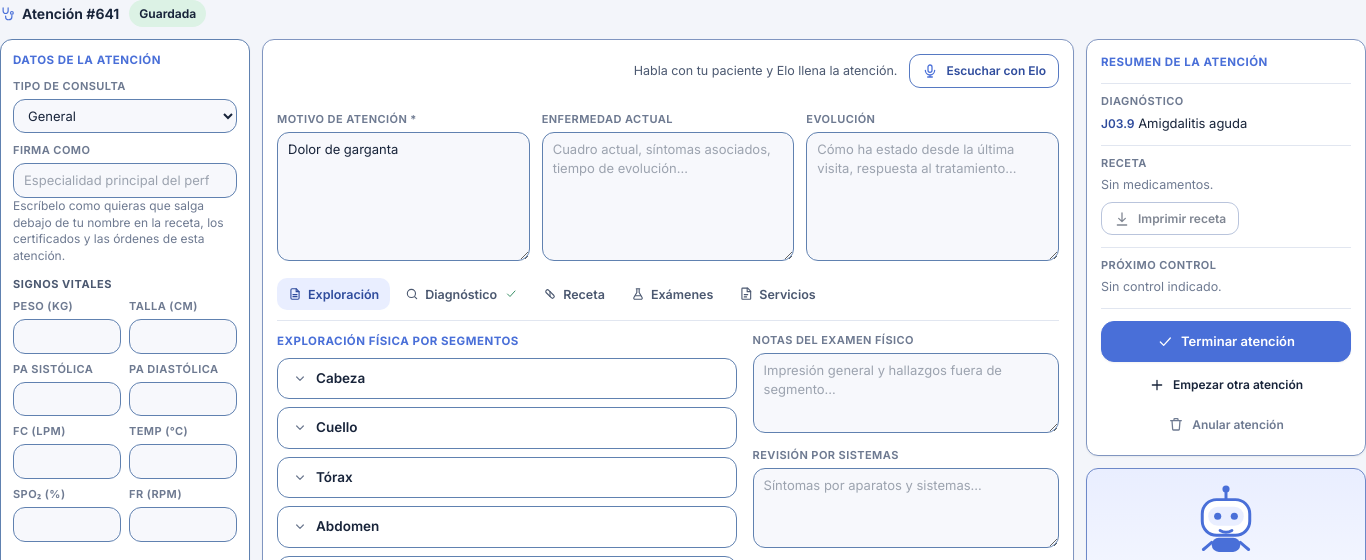
Scenario: EncounterSection — Elo › what Elo heard fills motivo, enfermedad actual and evolución
The image size is (1366, 560).
Expected: the text "Atención #641" is shown, [0, 4, 119, 24]
Click the button "Escuchar con Elo" at [984, 71], box [909, 54, 1059, 88]
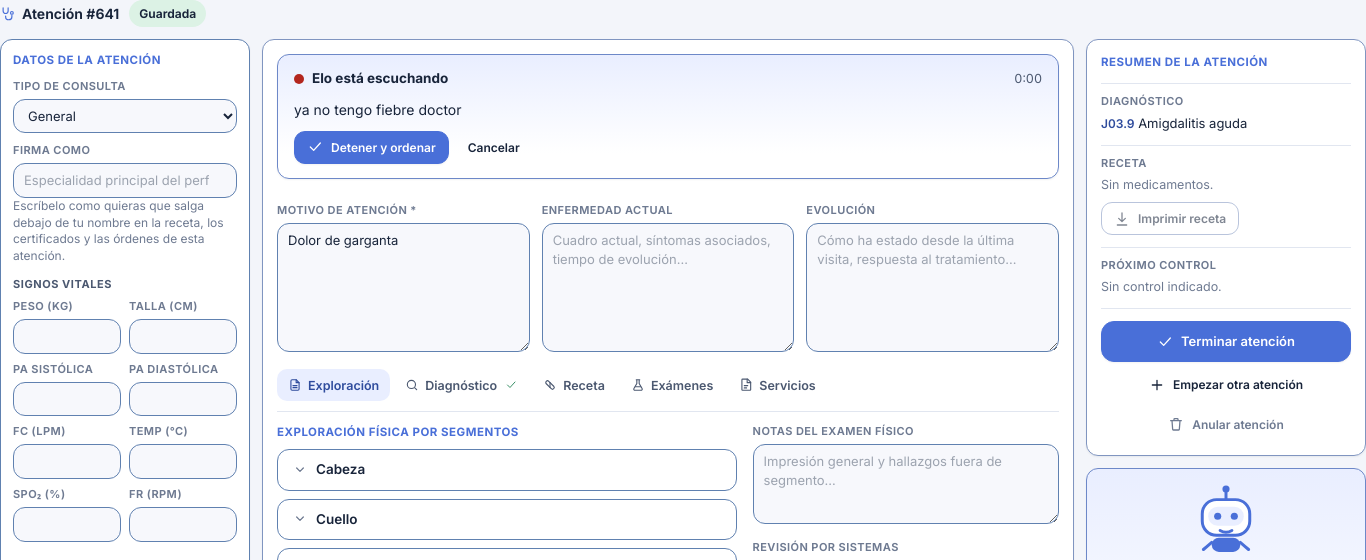
Click the button "Detener y ordenar" at [371, 147], box [294, 131, 449, 164]
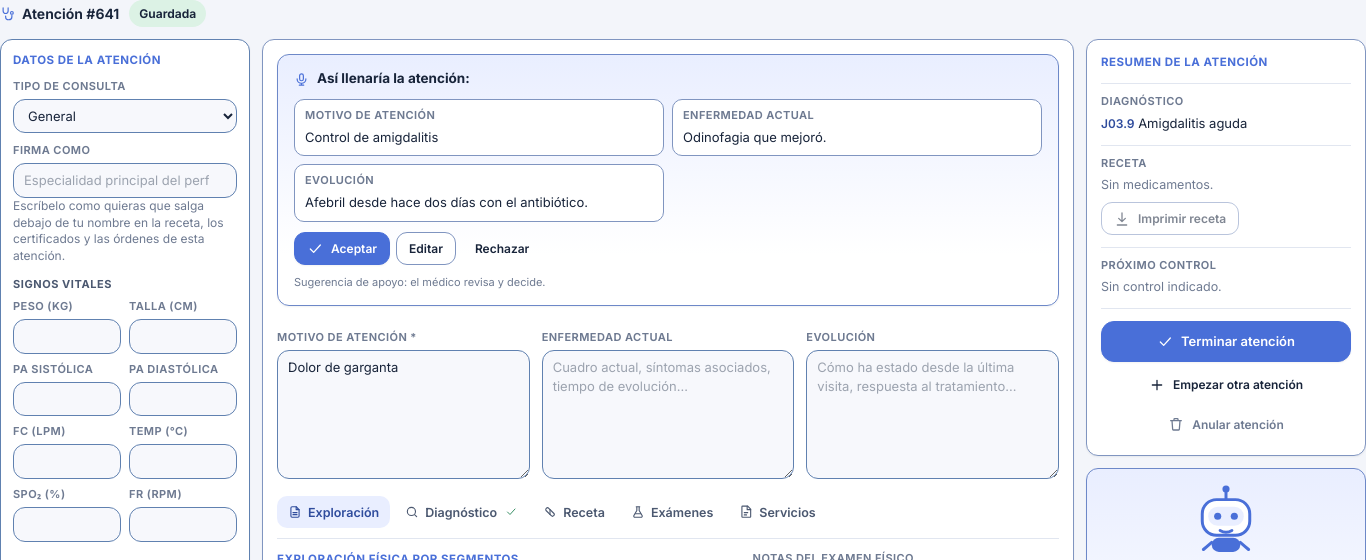
Click the button "Aceptar" at [342, 248], box [294, 232, 390, 265]
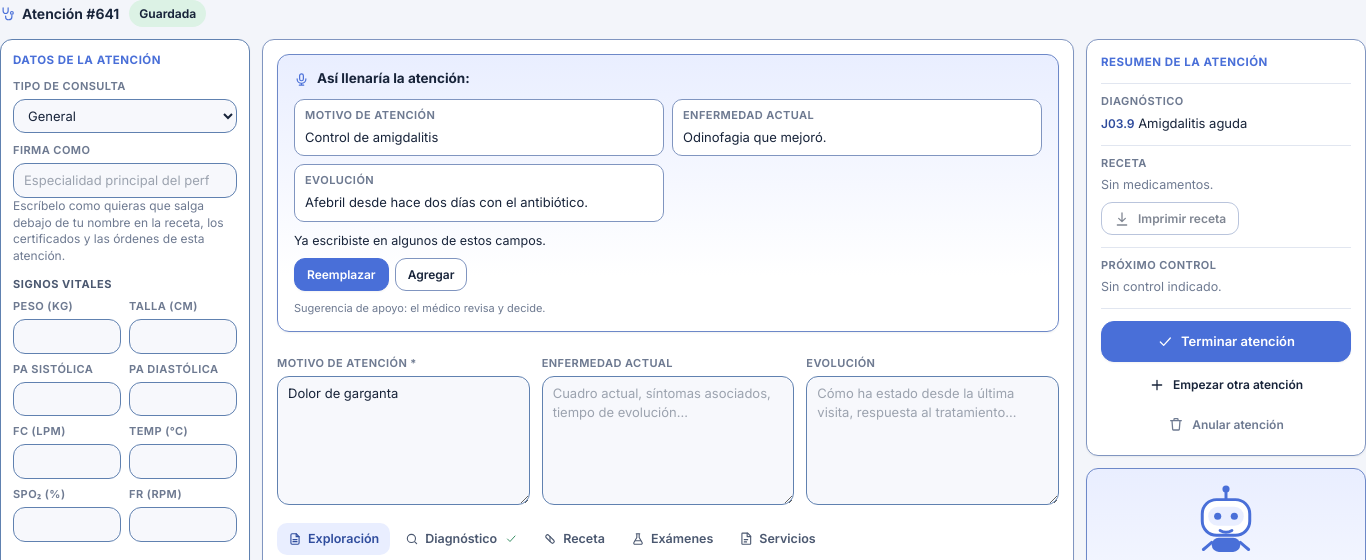
The motivo was already written: replace it.
Click the button "Reemplazar" at [341, 275], box [294, 258, 389, 291]
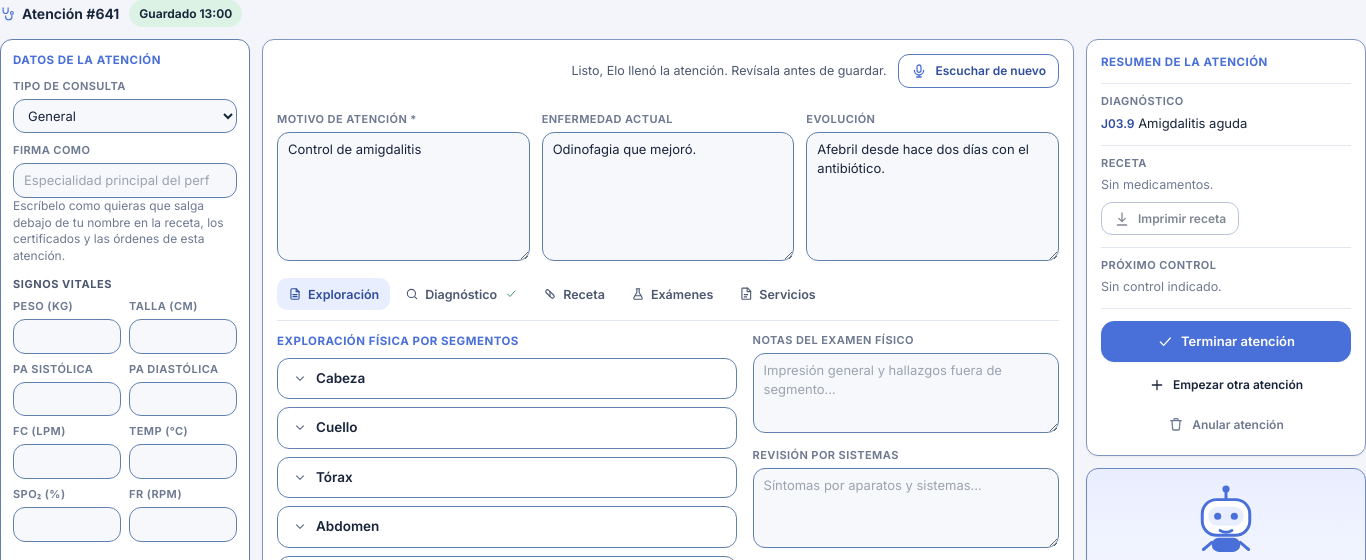
Now the text box labelled "Motivo de atención *" holds "Control de amigdalitis", box [277, 132, 530, 261]
Now the text box labelled "Enfermedad actual" holds "Odinofagia que mejoró.", box [542, 132, 794, 261]
Now the text box labelled "Evolución" holds "Afebril desde hace dos días con el antibiótico.", box [806, 132, 1059, 261]
